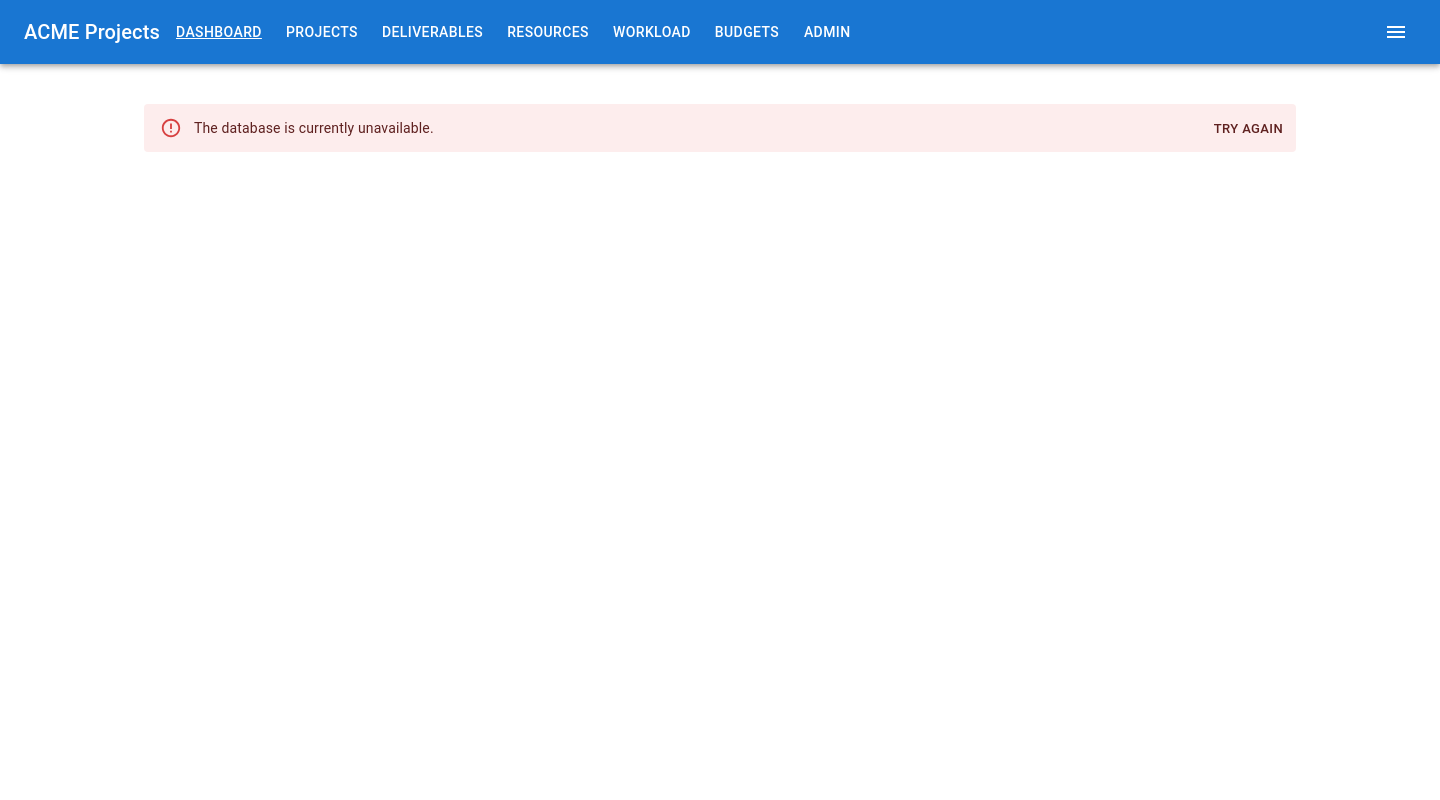
Scenario: dashboard › shows errors instead of old or invented figures
Check: the text "The database is currently unavailable." is shown, box [194, 120, 434, 136]
Check: the text "Total projects" is not shown
Click the button "Try again": (1248, 129) [1209, 114, 1288, 145]
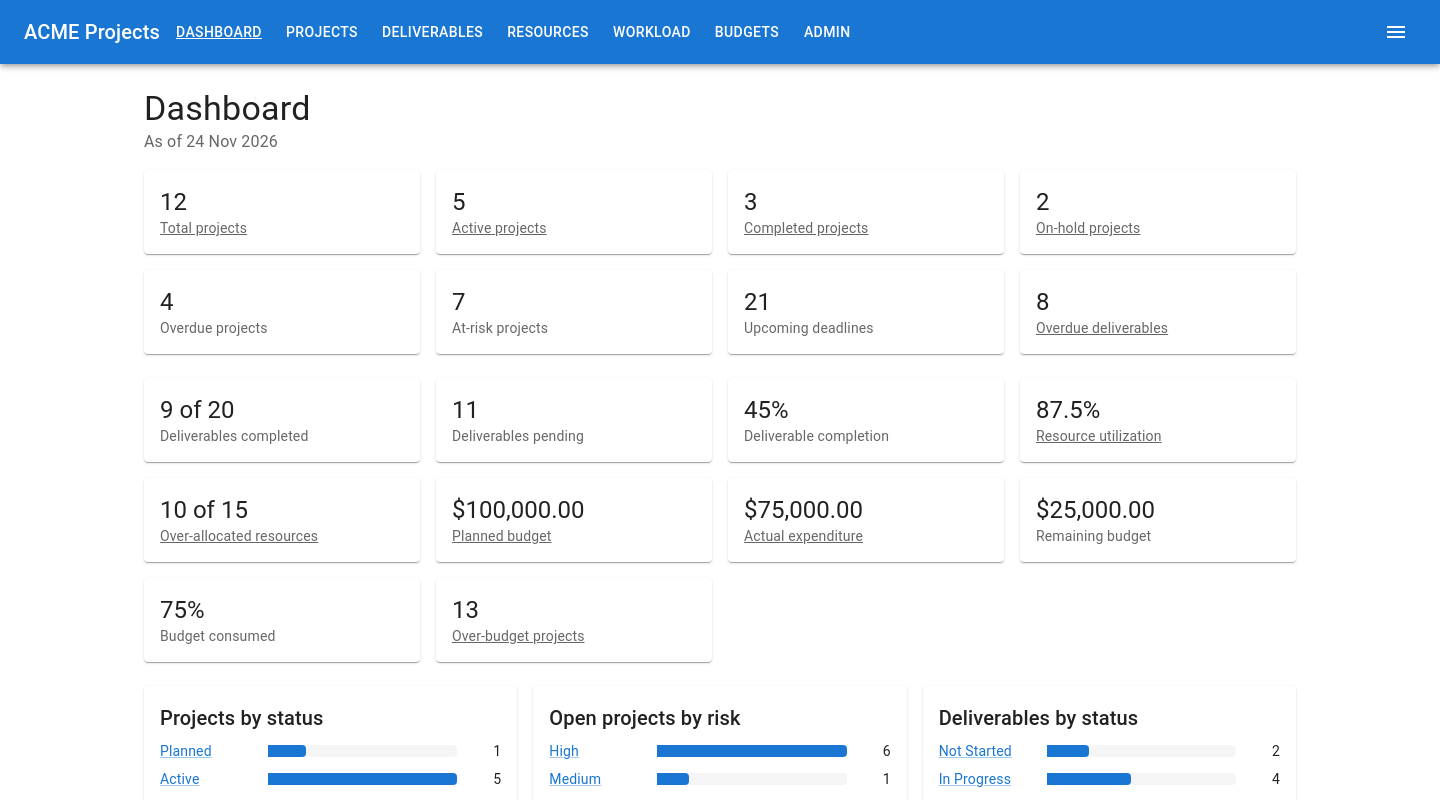
Check: the link "Total projects" is shown, box [160, 220, 247, 236]
